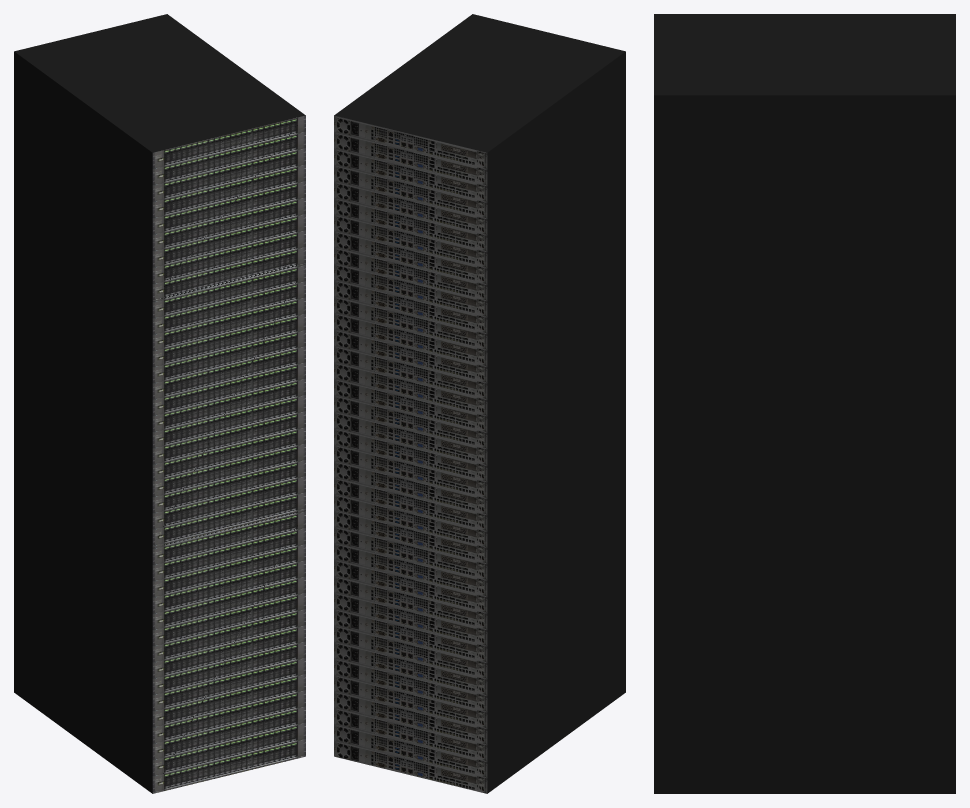
Rendered from SDR39.fbx.
3 renders of one model, left to right at view 1: azimuth 30°, elevation 25°; view 2: azimuth 150°, elevation 25°; view 3: azimuth 270°, elevation 25°, orthographic. The views are drawn at different scales.
Visible parts, largest first — view 1: SDR39; view 2: SDR39; view 3: SDR39.
Boxes of the visible parts, x1=… form: SDR39: x1=14, y1=14, x2=305, y2=793; SDR39: x1=334, y1=14, x2=625, y2=793; SDR39: x1=654, y1=14, x2=955, y2=793.
Size of the model in its own units: 434 by 1736 by 680.
3 materials, 2 textured.
